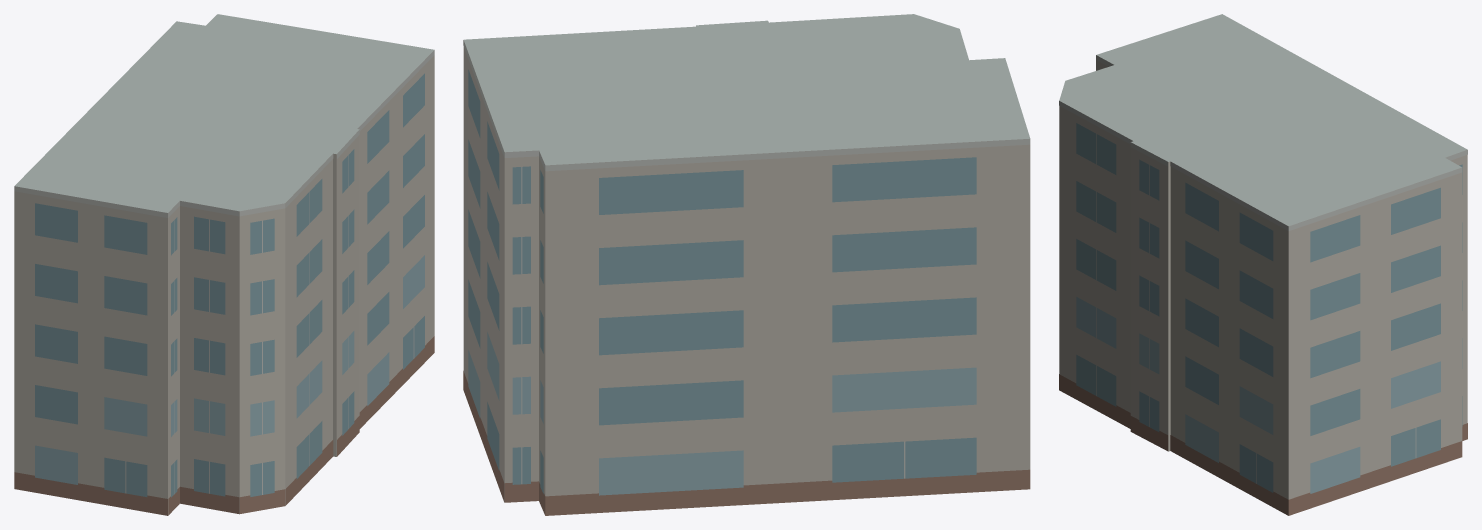
Rendered from survey-upis-32781346.glb.
The picture shows the model from 3 angles, left to right: view 1: azimuth 30°, elevation 25°; view 2: azimuth 150°, elevation 25°; view 3: azimuth 270°, elevation 25°; orthographic projection. The views are drawn at different scales.
Visible parts, largest first — view 1: survey-upis-32781346.tmp; view 2: survey-upis-32781346.tmp; view 3: survey-upis-32781346.tmp.
Part boxes in pixels (x1,y1,x2,y2): survey-upis-32781346.tmp: [14, 14, 434, 515]; survey-upis-32781346.tmp: [463, 14, 1030, 515]; survey-upis-32781346.tmp: [1059, 14, 1467, 515].
Bounding box in the file's own units: 22.65 × 14.4 × 18.42.
